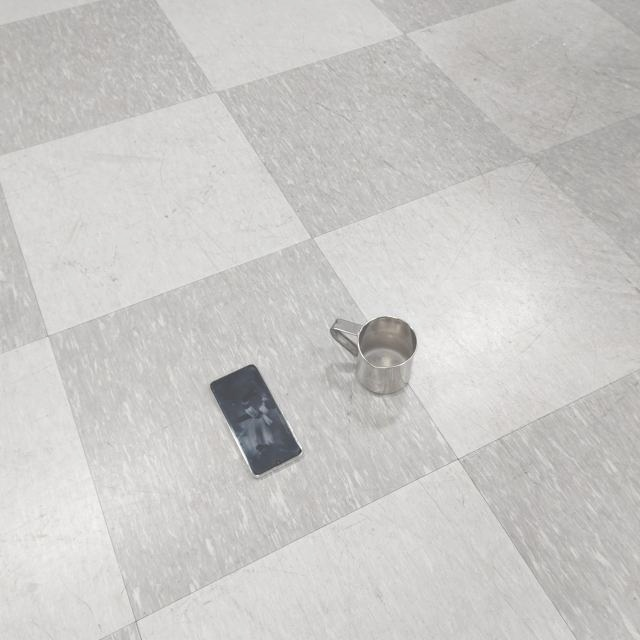cup: (333, 316, 419, 396)
phone: (209, 364, 303, 478)
